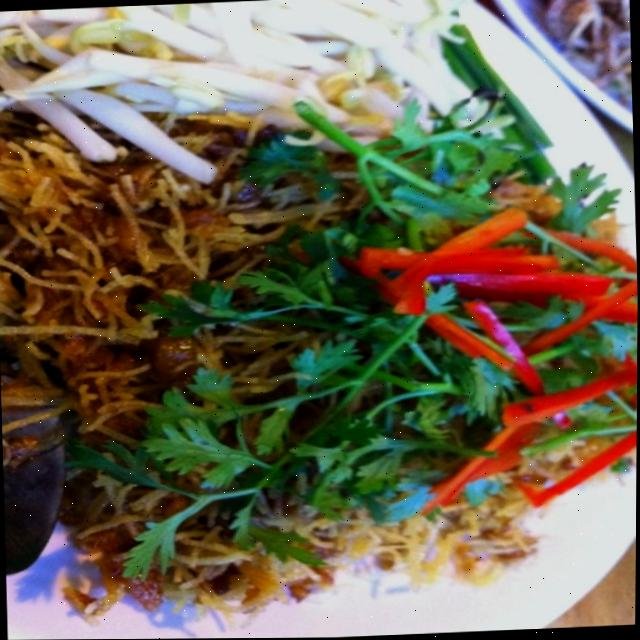面条主食: (8, 86, 624, 603)
